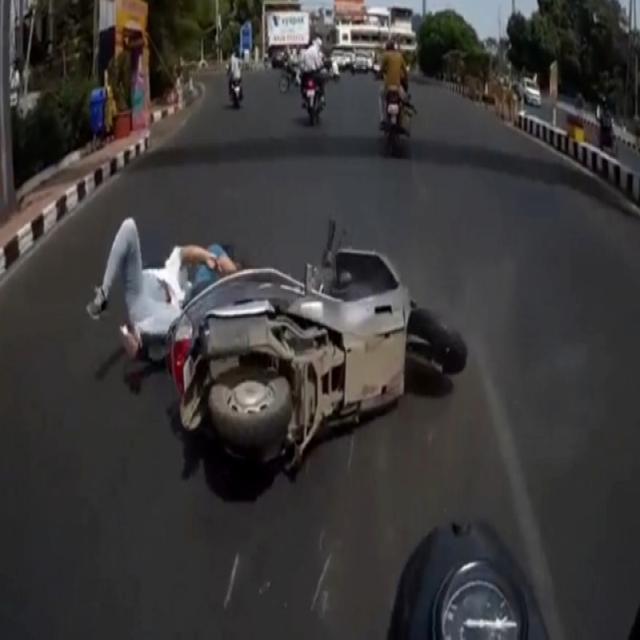accident: (165, 236, 466, 461)
motorcycle: (381, 39, 408, 152)
